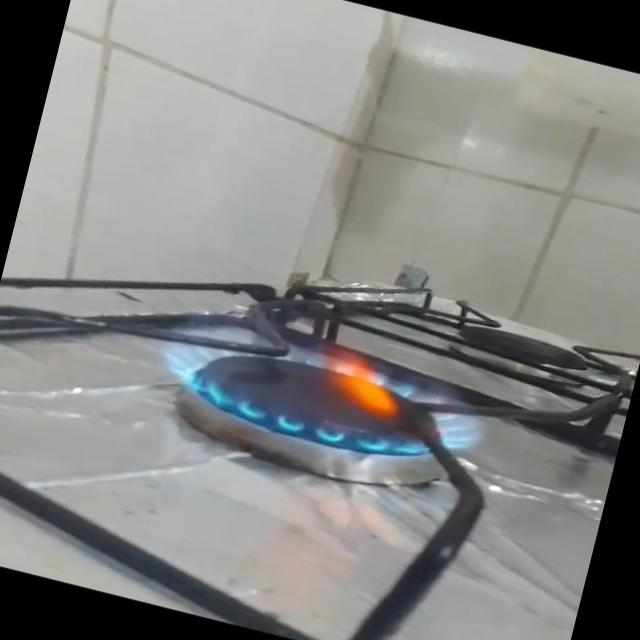Fire: (136, 292, 502, 490)
